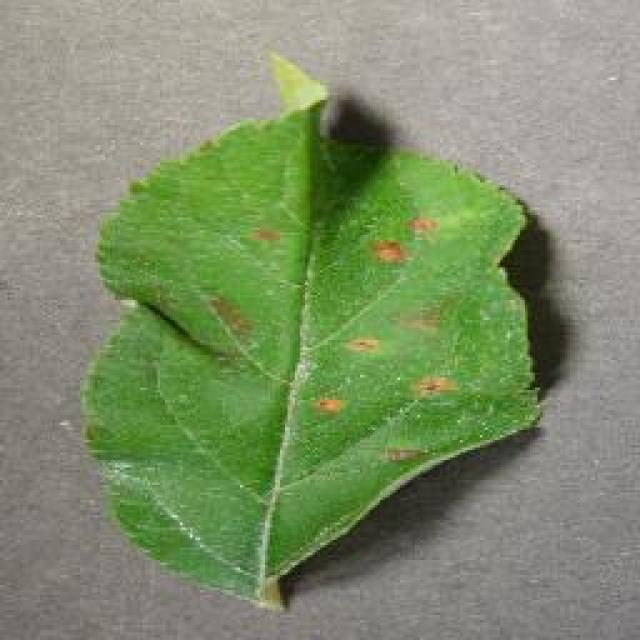apple cedar apple rust: (77, 50, 545, 610)
